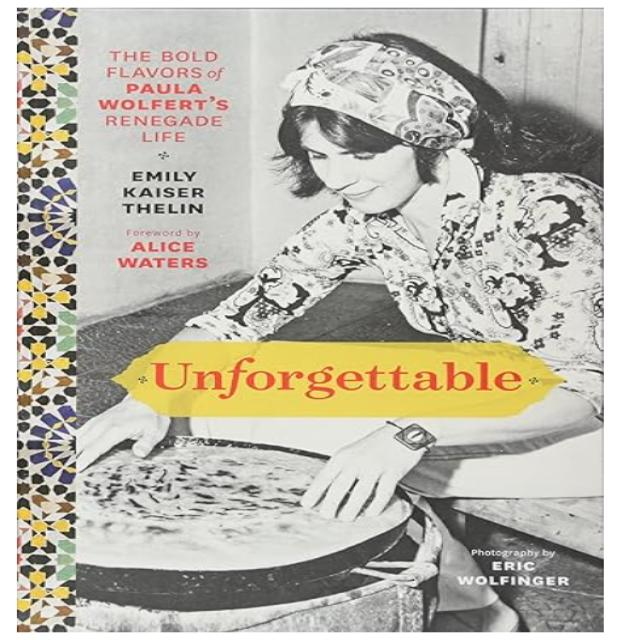titles-or-authors: (141, 345, 537, 402), (99, 161, 234, 223)
